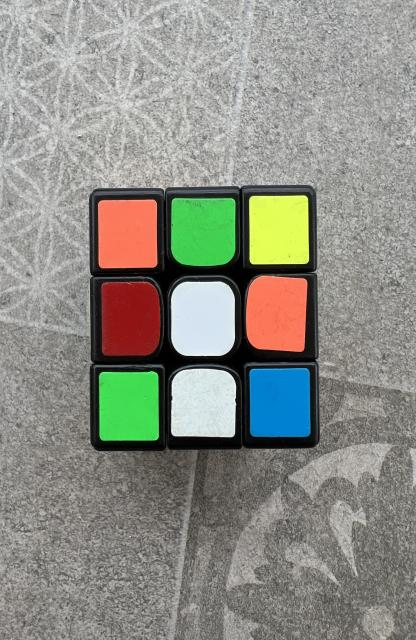Blue: (249, 368, 311, 438)
Green: (171, 198, 236, 266), (99, 371, 159, 441)
Orange: (246, 276, 308, 351), (98, 200, 157, 269)
Red: (102, 281, 160, 356)
White: (171, 281, 235, 356), (171, 369, 236, 438)
Yellow: (249, 195, 309, 264)
